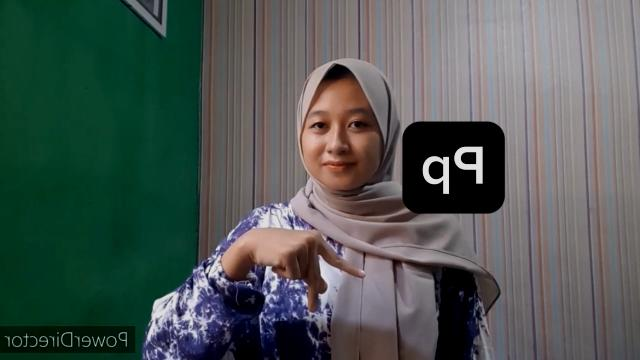P: (250, 222, 368, 316)
